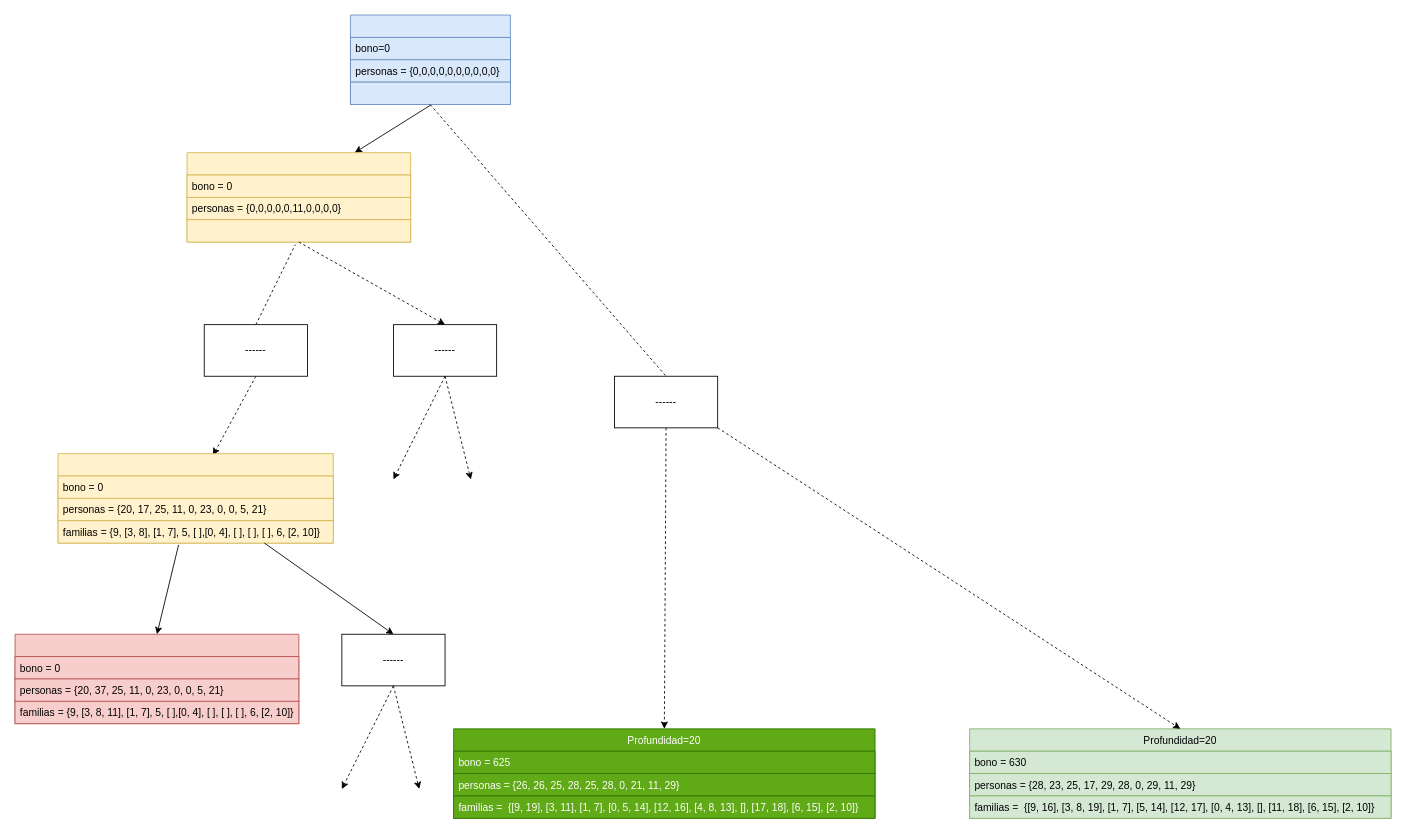
The diagram is 1406 pixels wide and 836 high, and some of its shapes have lost their labels. Each missing label, with the box of its shape:
Estado Inicial: (350, 14, 510, 104)
familias = vacio: (350, 81, 510, 104)
familias = {[ ], [ ], [ ], [ ], [ ], [0], [ ], [ ], [ ], [ ], [ ]}: (186, 219, 411, 242)
Profundidad=1: (186, 152, 411, 242)
Profundidad=11: (57, 453, 333, 543)
Profundidad=12: (14, 633, 299, 724)
